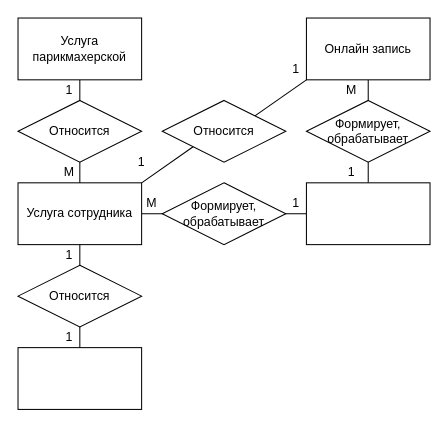
Image size: 448x427. Some labels were removed from this diagram. The centre of each missing label's shape, as x and y in pixels:
"Оператор ИС" goes at [367,213].
"Расписание услуги" goes at [79,378].
